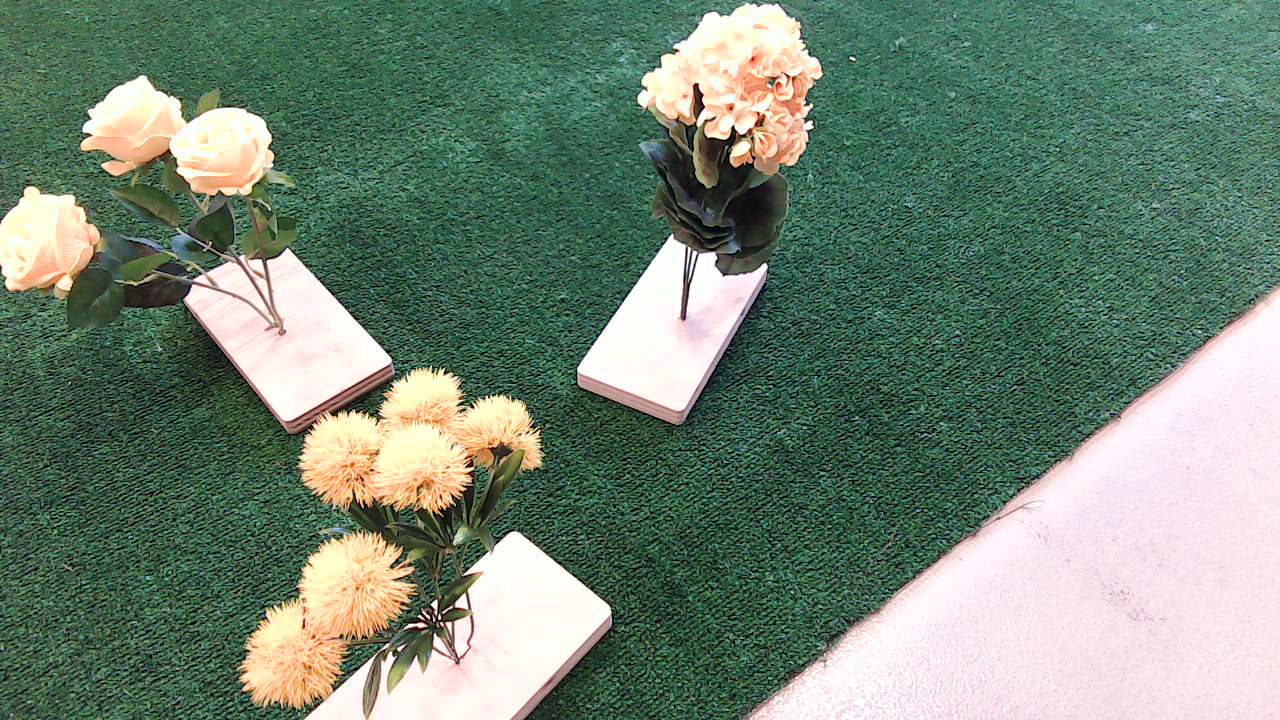dandelion: (241, 371, 561, 720)
geranium: (614, 2, 820, 334)
rose: (6, 73, 361, 310)
